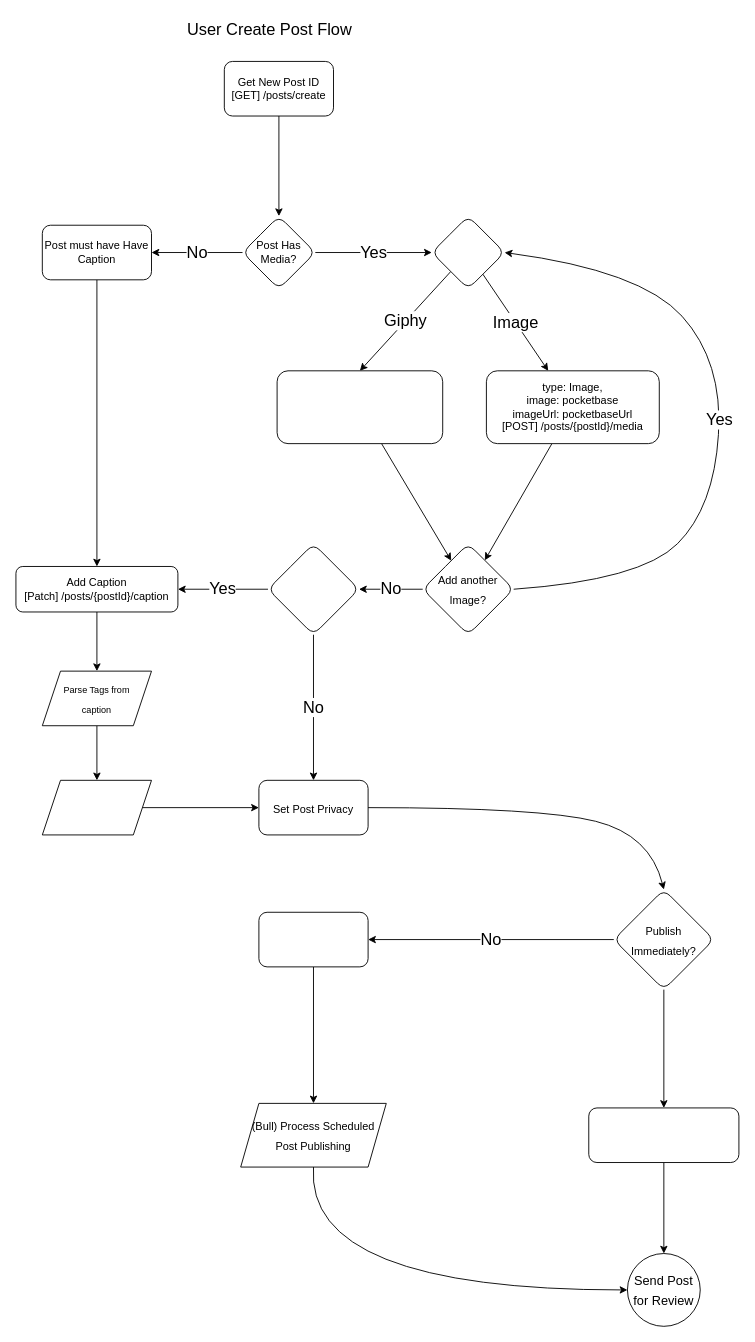
This 755x1342 diagram has some shape labels left out. Here are the shapes that lost their labels. From the top down, the centre of each, then its label:
At (468,252): "What Type of Media?".
At (359,407): "type: Giphy, imageUrl: giff url [POST] /posts/{postId}/media".
At (313,589): "Post Has Caption?".
At (96,807): "Parse Urls from caption".
At (313,939): "Schedule Post Publish".
At (663,1135): "Publish Post [Post] /posts/{postId}/publish".
